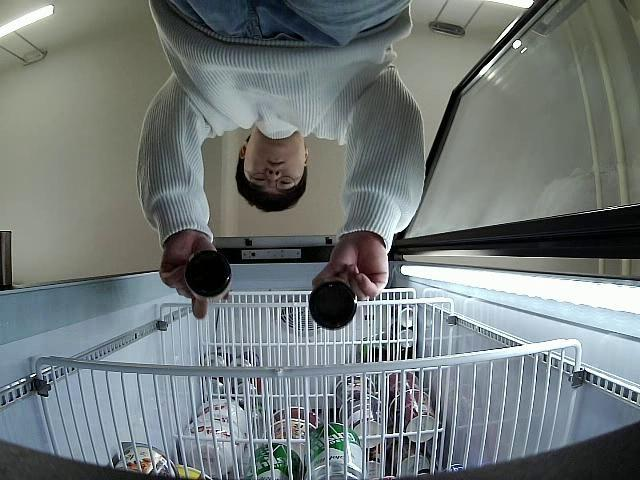17_vita500: (309, 282, 358, 331), (184, 252, 231, 300)
